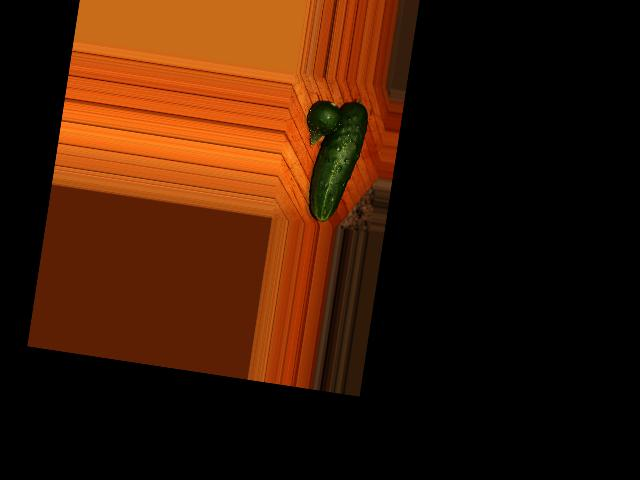cucumber: (305, 97, 370, 226)
